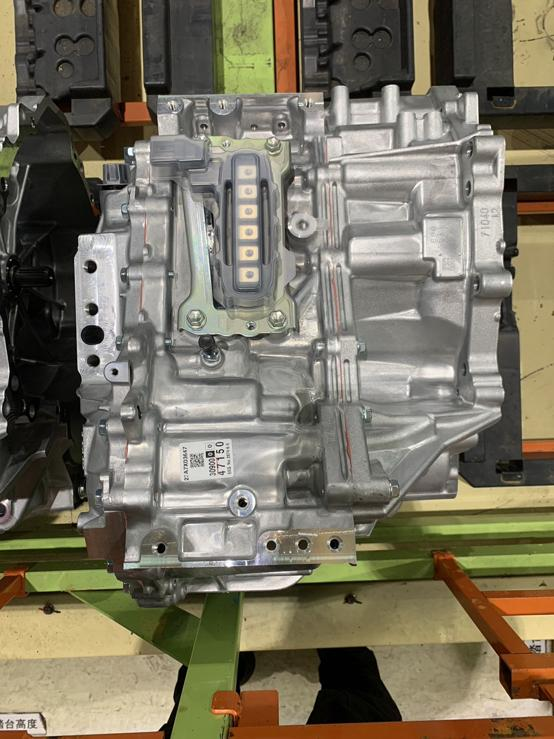gearbox_type3: (75, 86, 513, 600)
gearbox_type3_FP1: (225, 149, 273, 299)
gearbox_type3_FP2: (224, 484, 261, 517)
gearbox_type3_FP3: (74, 230, 131, 385)
